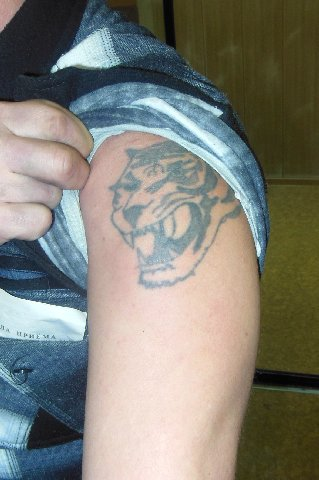tatu5_tigr: (107, 139, 241, 291)
